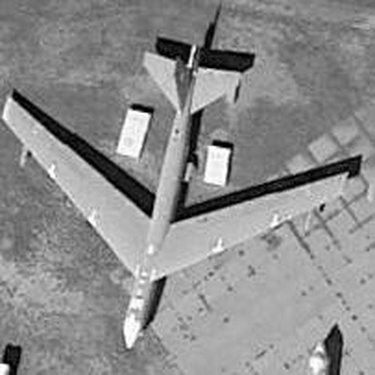airplane: (7, 16, 367, 367), (300, 335, 346, 373)
